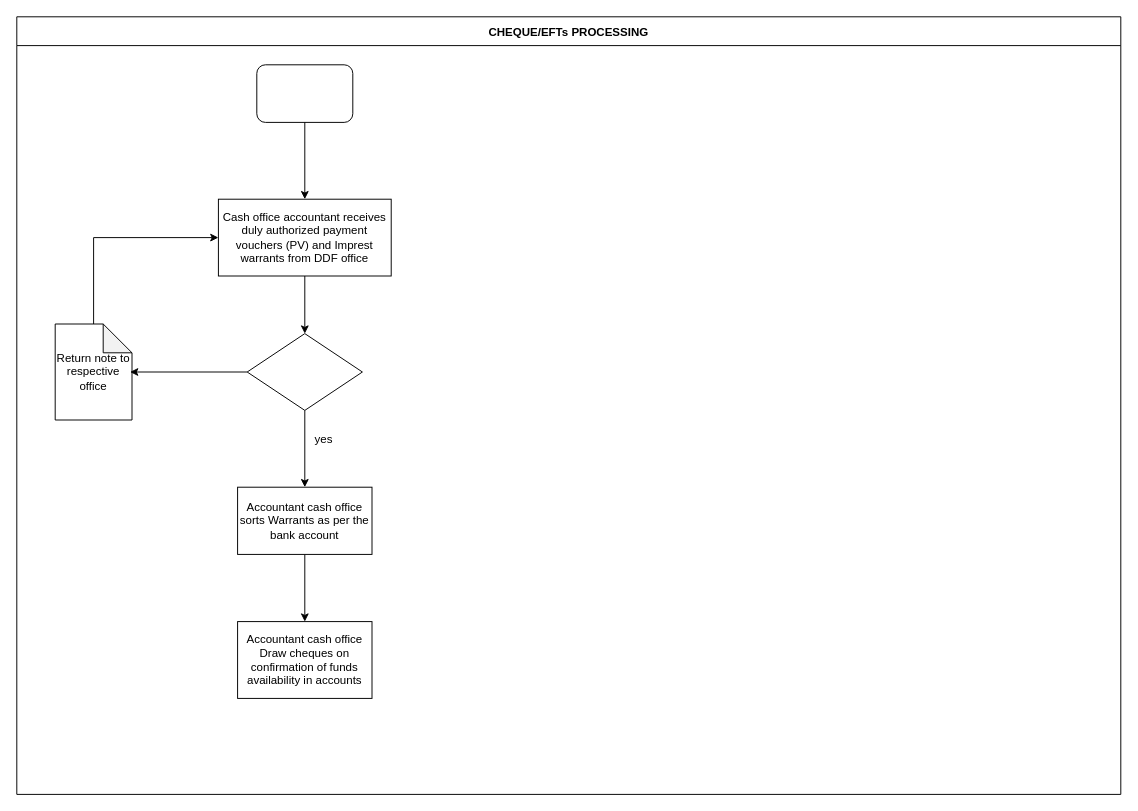
Image size: 1138x811. Some labels were removed from this diagram. The shapes that lost their labels are listed below. From the top down, each one's box as (x1, y1, x2, y2) in pixels, then its label:
(256, 64, 353, 122): Start
(246, 333, 362, 410): PV duly authorized?
